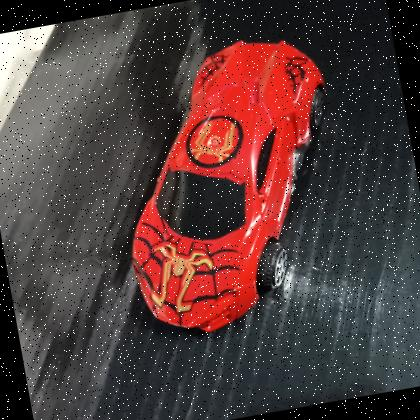Car: (92, 21, 371, 348)
